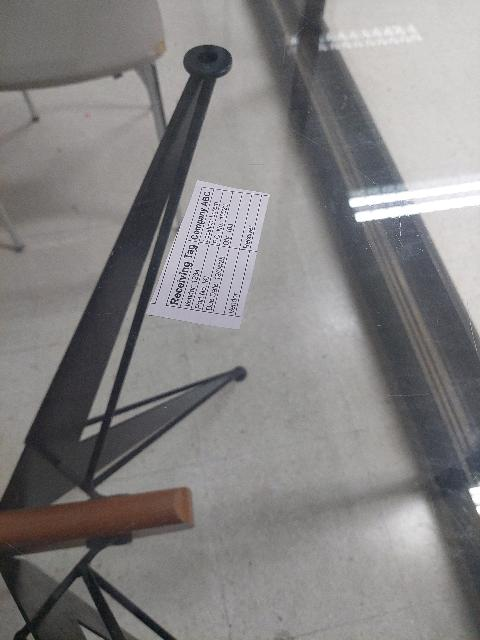PO no: (209, 189, 233, 246)
part no: (191, 243, 219, 311)
qty: (219, 192, 242, 247)
tags: (145, 181, 270, 334)
